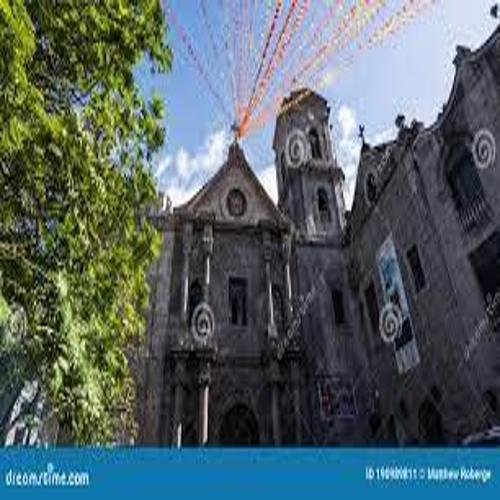San Agustin Church: (149, 73, 364, 445)
